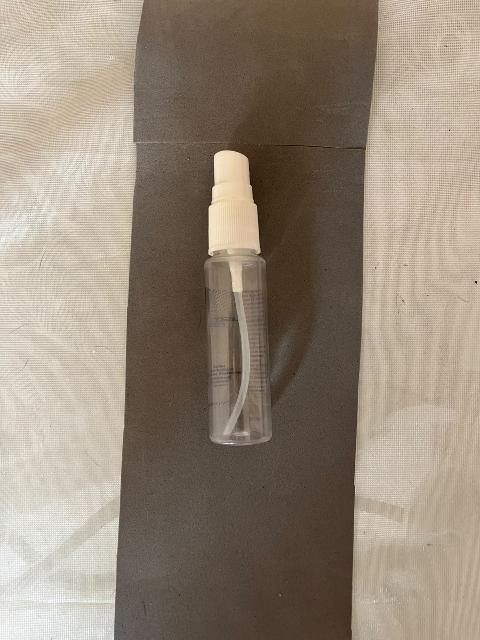PET: (149, 126, 337, 483)
